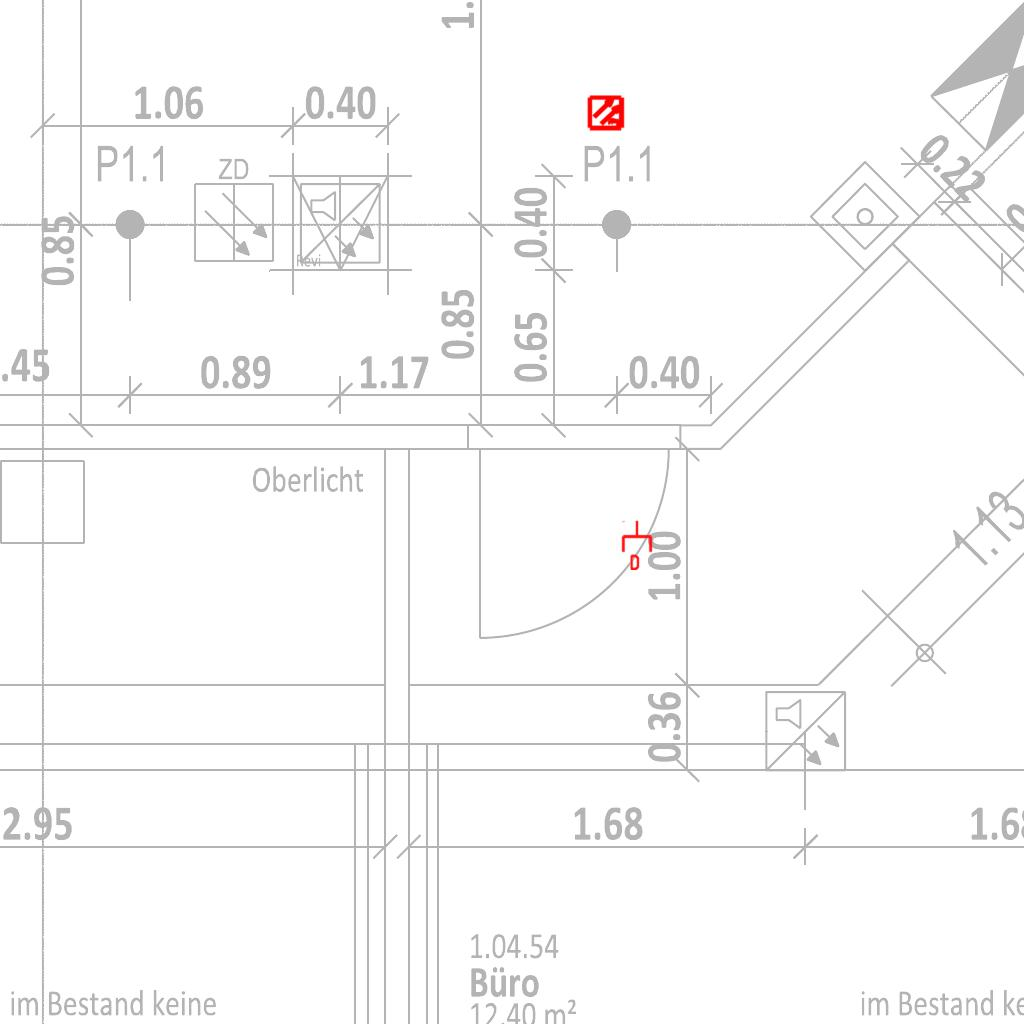Datenanschluss_einfach: (620, 520, 654, 570)
OT_Multisensormelder_(Kombination_RMO_WMD): (579, 85, 635, 141)
